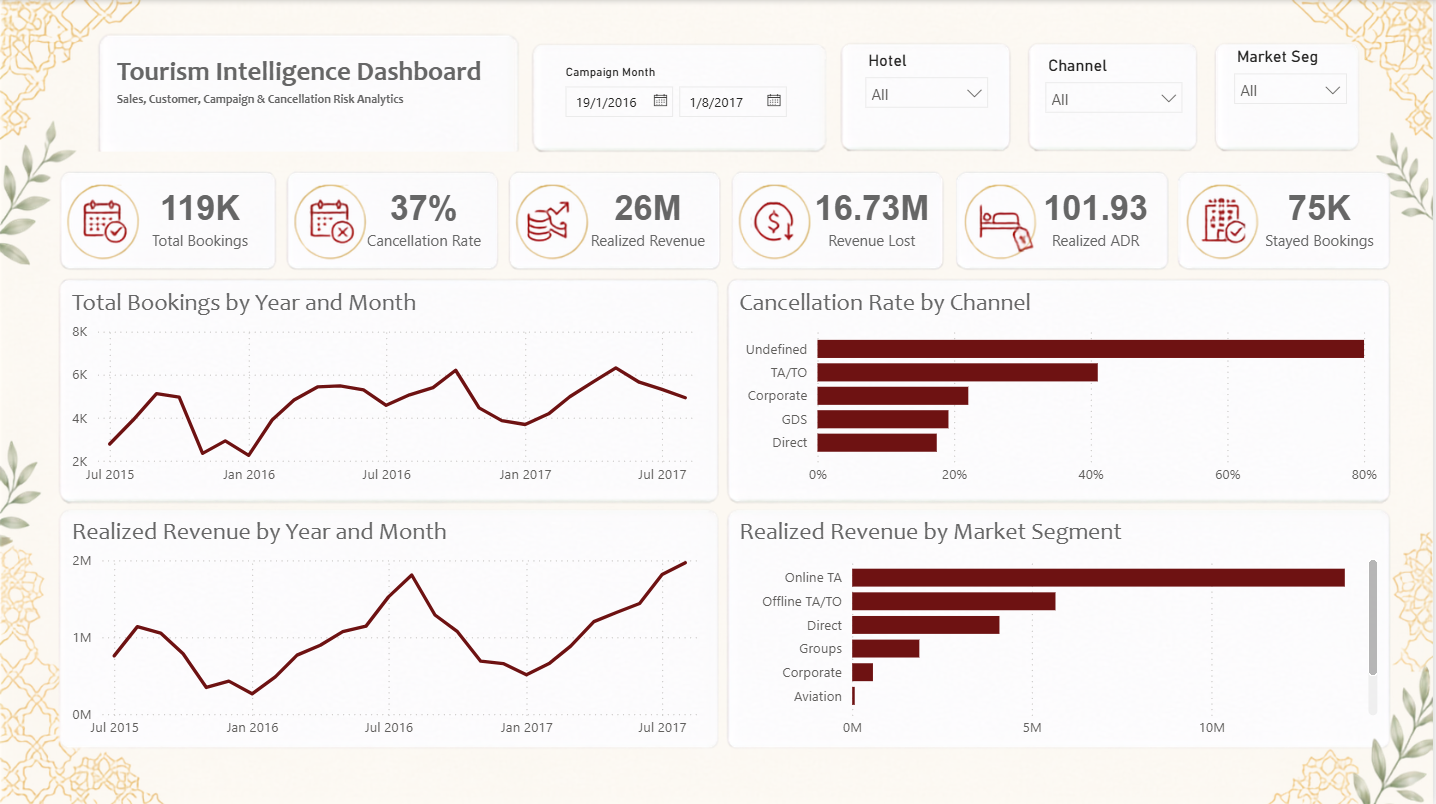

The page's visual inventory and layout, read from the dashboard file:
{"tool":"powerbi","page":{"name":"Executive Overview","canvas":[1280,720],"ordinal":0},"visuals":[{"type":"slicer","fields":{"Values":["fact_campaign_funnel_synthetic.campaign_month"]},"box":[593,31.4,136,91.9],"z":0},{"type":"slicer","fields":{"Values":["dim_hotel.hotel"]},"box":[762.8,40.7,130.2,69.8],"z":1000},{"type":"slicer","fields":{"Values":["dim_channel.distribution_channel"]},"box":[923.3,44.2,143,79.1],"z":2000},{"type":"slicer","fields":{"Values":["dim_segment.market_segment"]},"box":[1091.9,37.2,120.9,81.4],"z":3000},{"type":"cardVisual","fields":{"Data":["Booking measures.Total Bookings","Booking measures.Cancellation Rate","Booking measures.Realized Revenue","Booking measures.Revenue Lost to Cancellation","Booking measures.Average ADR","Booking measures.Stayed Bookings"]},"box":[79.1,152.3,1201.2,89.5],"z":4000},{"type":"lineChart","fields":{"Y":["Booking measures.Total Bookings"],"Category":["dim_date.date.Variation.Date Hierarchy.Year","dim_date.date.Variation.Date Hierarchy.Month"]},"box":[59.3,257,580.2,184.9],"z":5000},{"type":"lineChart","fields":{"Y":["Booking measures.Realized Revenue"],"Category":["dim_date.date.Variation.Date Hierarchy.Year","dim_date.date.Variation.Date Hierarchy.Month"]},"box":[59.3,461.6,580.2,207],"z":6000},{"type":"clusteredBarChart","fields":{"Category":["dim_channel.distribution_channel"],"Y":["Booking measures.Cancellation Rate"]},"box":[655.8,257,580.2,184.9],"z":7000},{"type":"clusteredBarChart","fields":{"Category":["dim_segment.market_segment"],"Y":["Booking measures.Realized Revenue"]},"box":[655.8,461.6,580.2,207],"z":8000},{"type":"textbox","box":[97.7,37.2,495.4,81.4],"z":9000}]}

Visuals, with their boxes in screenshot pixels (x1, y1, x2, y2), scaled from the page's 1280x720 canvas onto the 1436x804 screenshot:
slicer - fact_campaign_funnel_synthetic.campaign_month: left=665, top=35, right=818, bottom=138
slicer - dim_hotel.hotel: left=856, top=45, right=1002, bottom=123
slicer - dim_channel.distribution_channel: left=1036, top=49, right=1196, bottom=138
slicer - dim_segment.market_segment: left=1225, top=42, right=1361, bottom=132
cardVisual - Booking measures.Total Bookings x Booking measures.Cancellation Rate: left=89, top=170, right=1435, bottom=270
lineChart - Booking measures.Total Bookings x dim_date.date.Variation.Date Hierarchy.Year: left=67, top=287, right=717, bottom=493
lineChart - Booking measures.Realized Revenue x dim_date.date.Variation.Date Hierarchy.Year: left=67, top=515, right=717, bottom=747
clusteredBarChart - dim_channel.distribution_channel x Booking measures.Cancellation Rate: left=736, top=287, right=1387, bottom=493
clusteredBarChart - dim_segment.market_segment x Booking measures.Realized Revenue: left=736, top=515, right=1387, bottom=747
textbox: left=110, top=42, right=665, bottom=132
